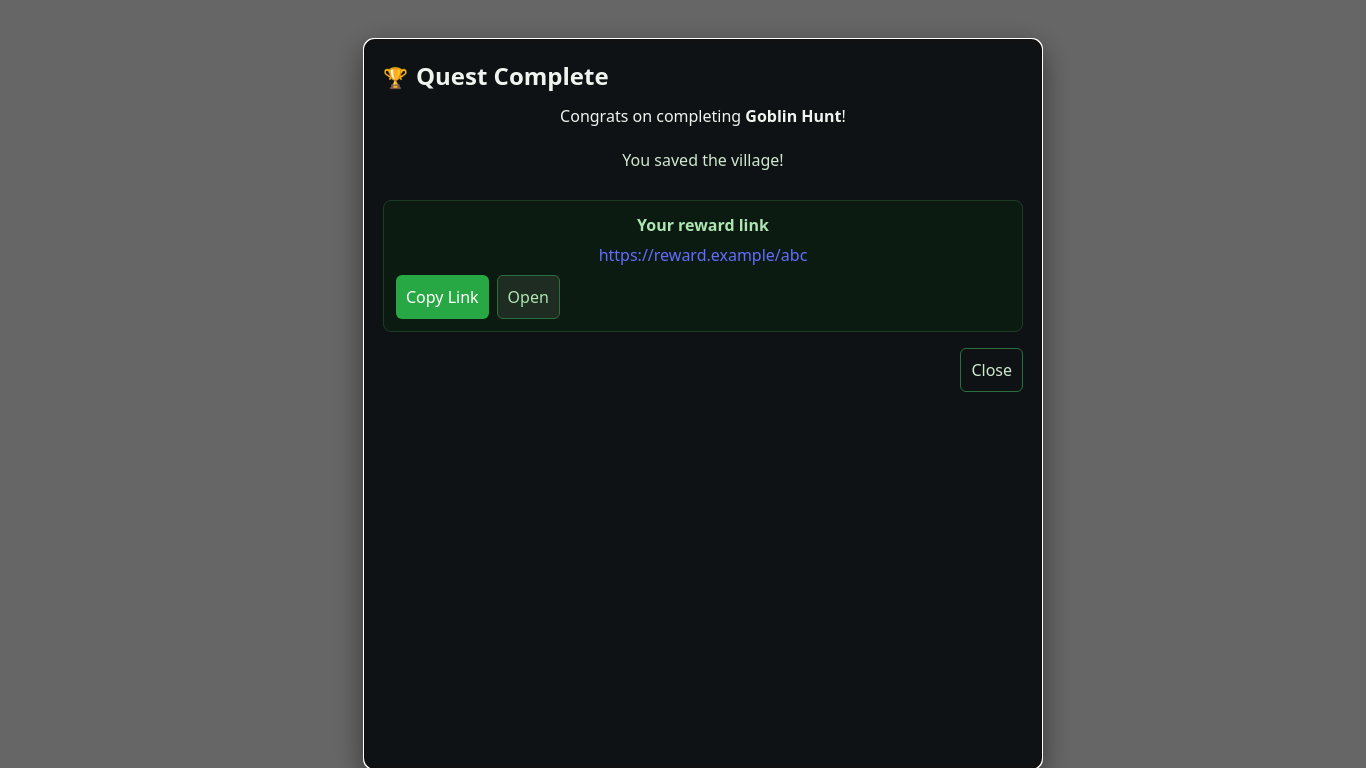
Test: QuestCompletionModal › shows copied feedback after clicking Copy Link
The width and height of the screenshot is (1366, 768).
Click the button "Copy Link": {"x": 442, "y": 297} x1=396 y1=275 x2=489 y2=319
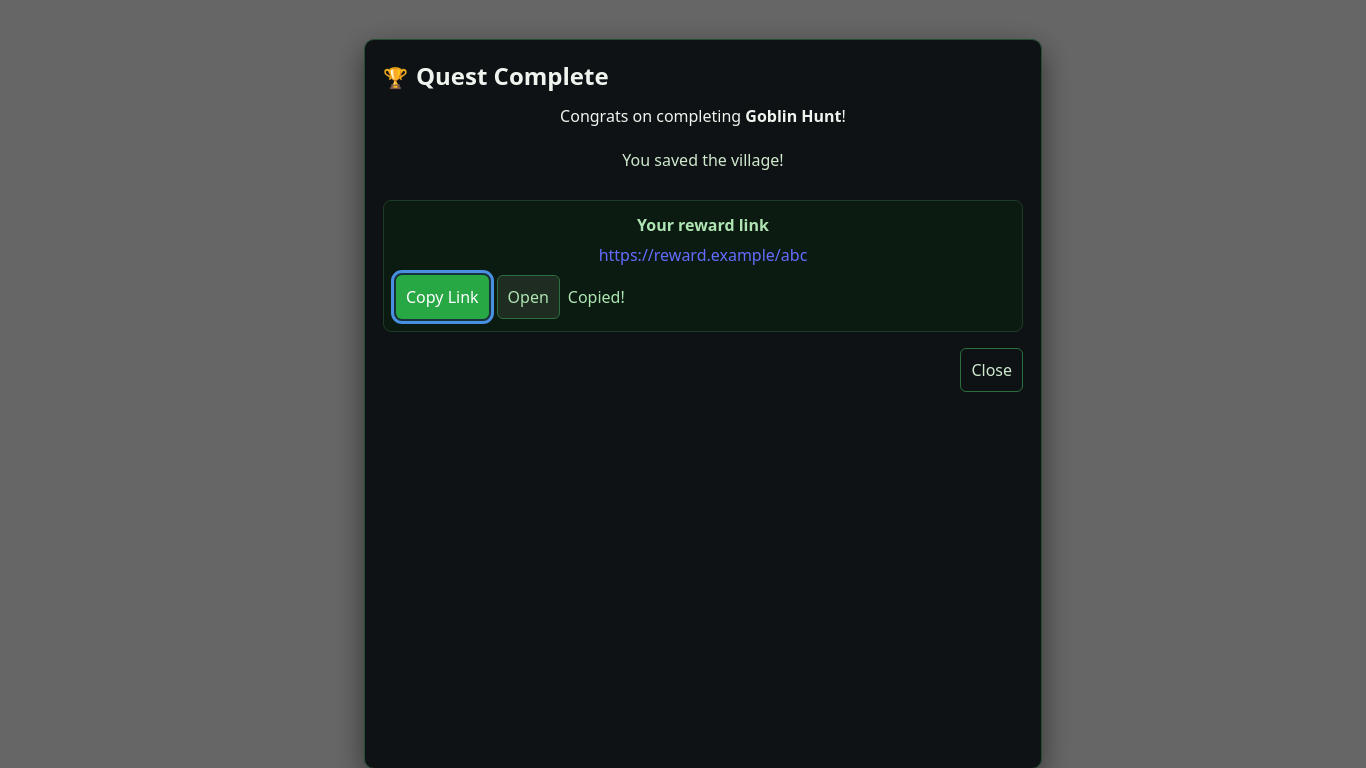
Now the text "Copied!" is shown, box x1=568 y1=285 x2=625 y2=309
